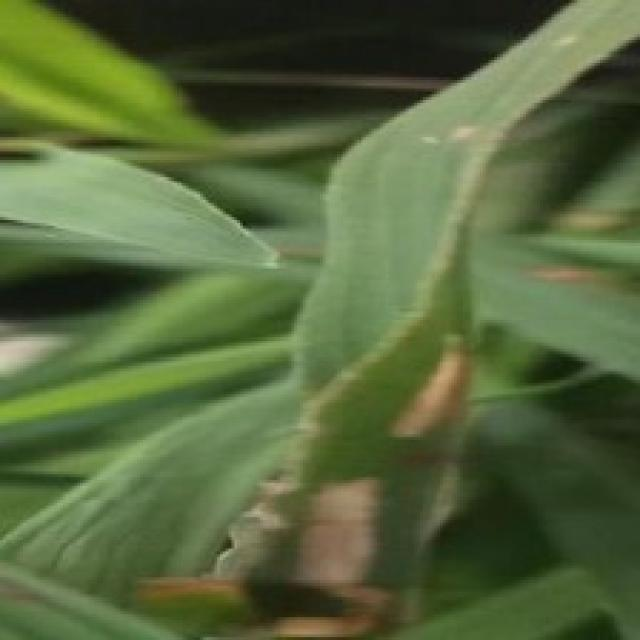Unhealthy: (134, 403, 323, 615), (253, 478, 393, 636), (393, 353, 474, 434), (532, 267, 603, 281), (448, 123, 481, 148)
